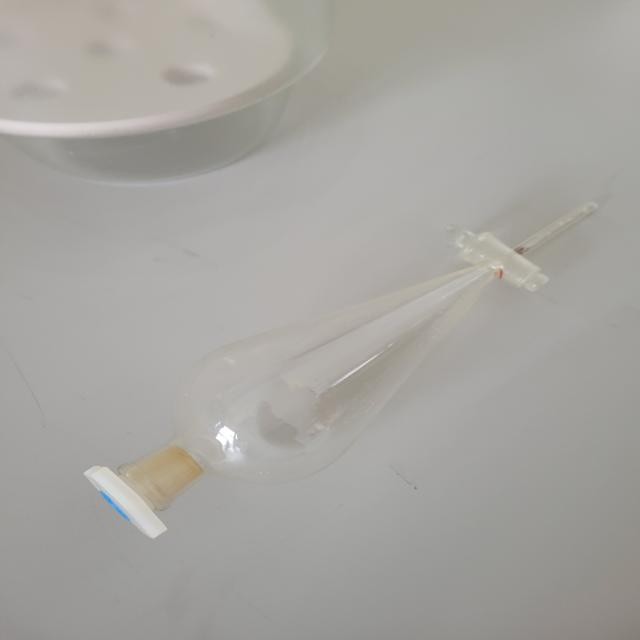Separating_Funnel: (72, 180, 612, 562)
